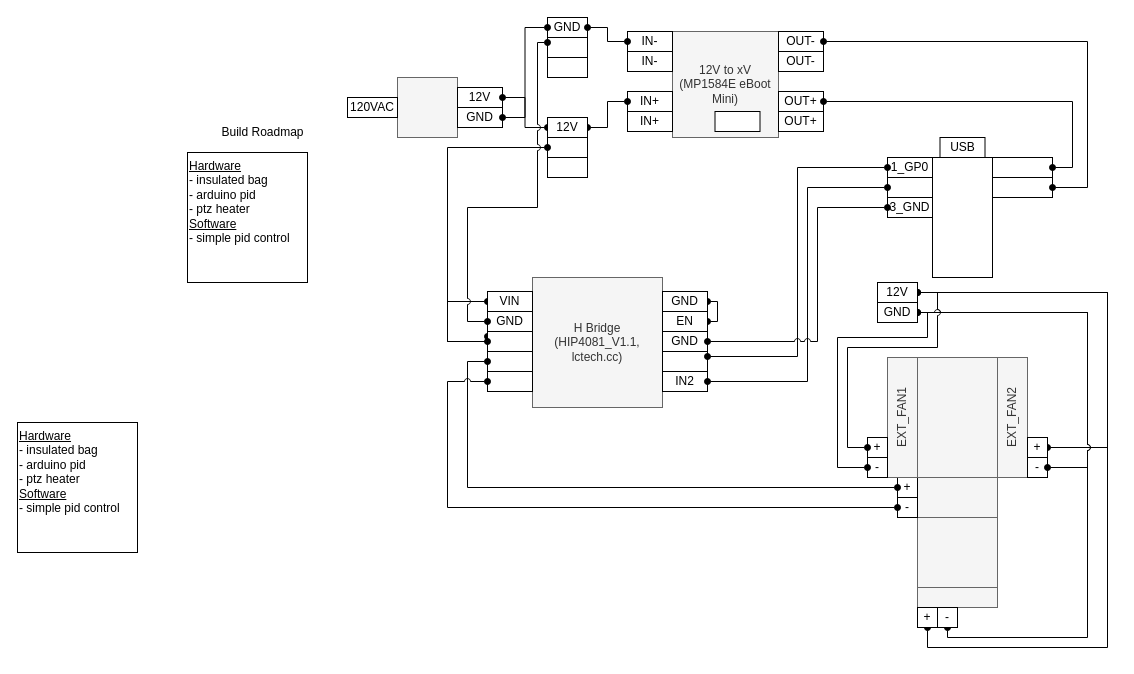
Some shapes in this 1134 by 674 pixel diagram are drawn without their labels. The box of each missing label's shape, as (x1, y1, x2, y2) in pixels:
+12V: (486, 330, 532, 352)
12V xA PSU: (396, 76, 458, 138)
2_GP1: (886, 176, 932, 198)
38_GND: (992, 176, 1052, 198)
39_VSYS: (992, 156, 1052, 178)
5V: (714, 110, 760, 132)
External HeatSink: (916, 356, 998, 478)
IN1: (662, 350, 708, 372)
INT_FAN: (916, 586, 998, 608)
Internal HeatSink: (916, 516, 998, 588)
MOT+: (486, 350, 532, 372)
MOT-: (486, 370, 532, 392)
Peliter: (916, 476, 998, 518)
rPi Pico: (932, 156, 992, 278)
